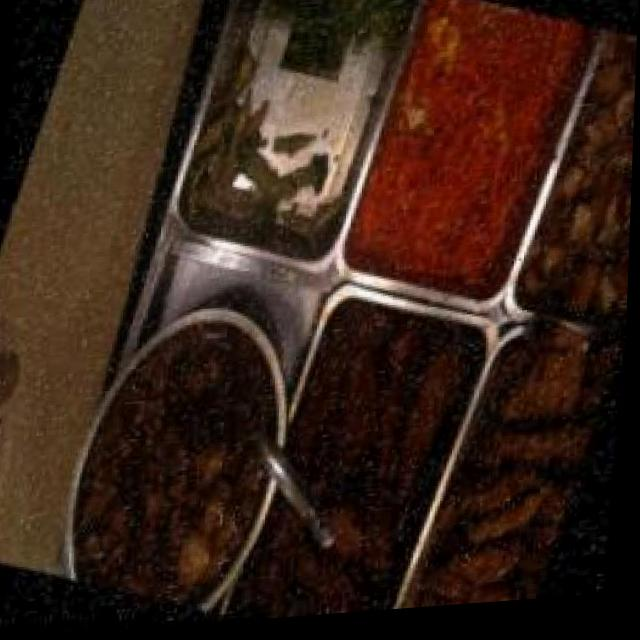carrot_eggs: (338, 0, 591, 315)
water_spinach: (262, 0, 392, 77)
